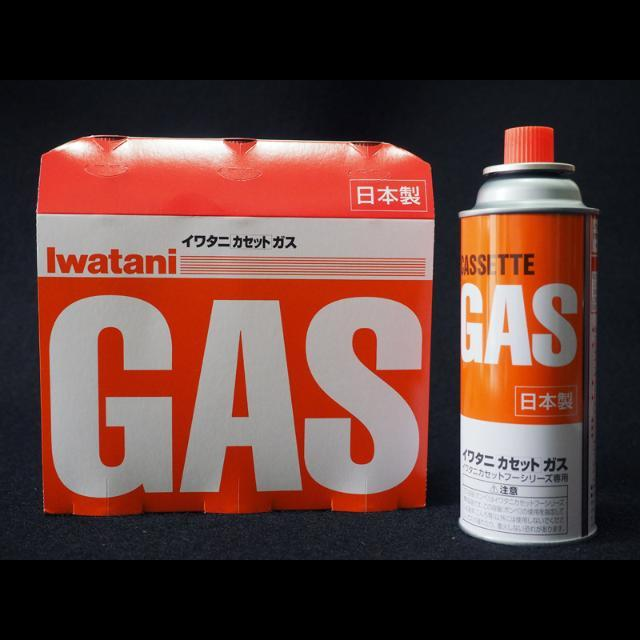chemical_spray_can: (445, 115, 619, 560)
